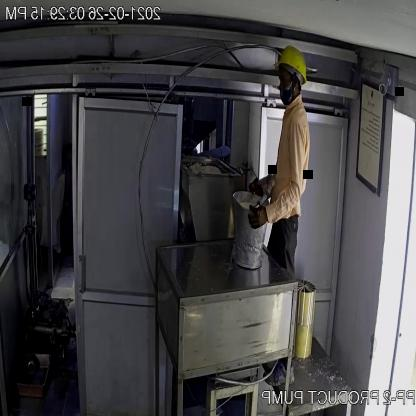helmet: (271, 43, 309, 88)
